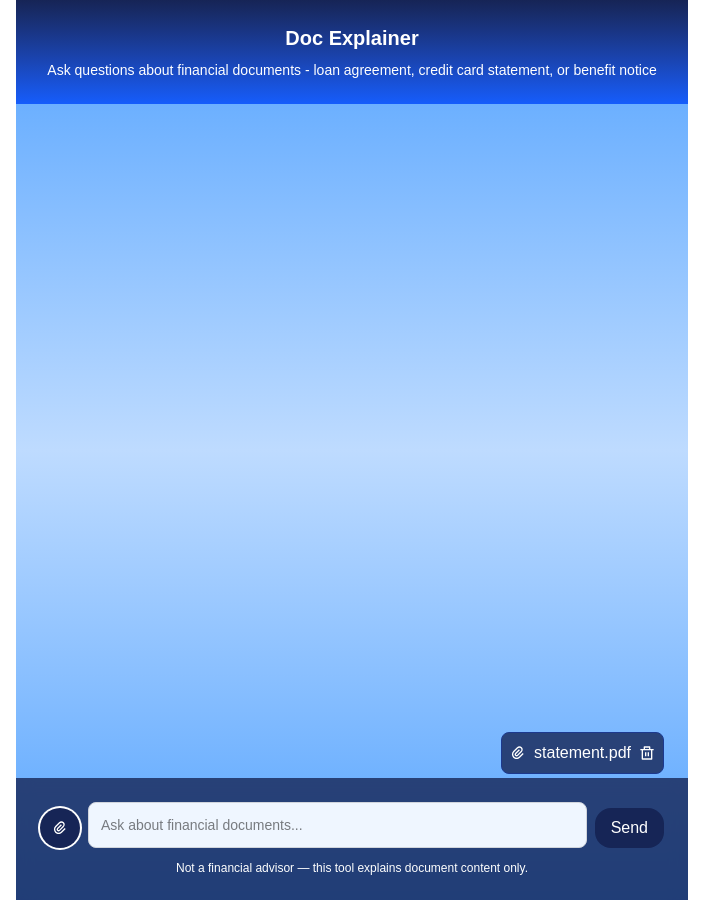
Test: Home › shows the attached file and lets the user remove it
Earlier steps of the test are not shown.
Expected: the text "statement.pdf" is shown, left=534, top=741, right=631, bottom=765
Click the button named "Remove uploaded document".
click(647, 753)  # box left=639, top=745, right=655, bottom=761
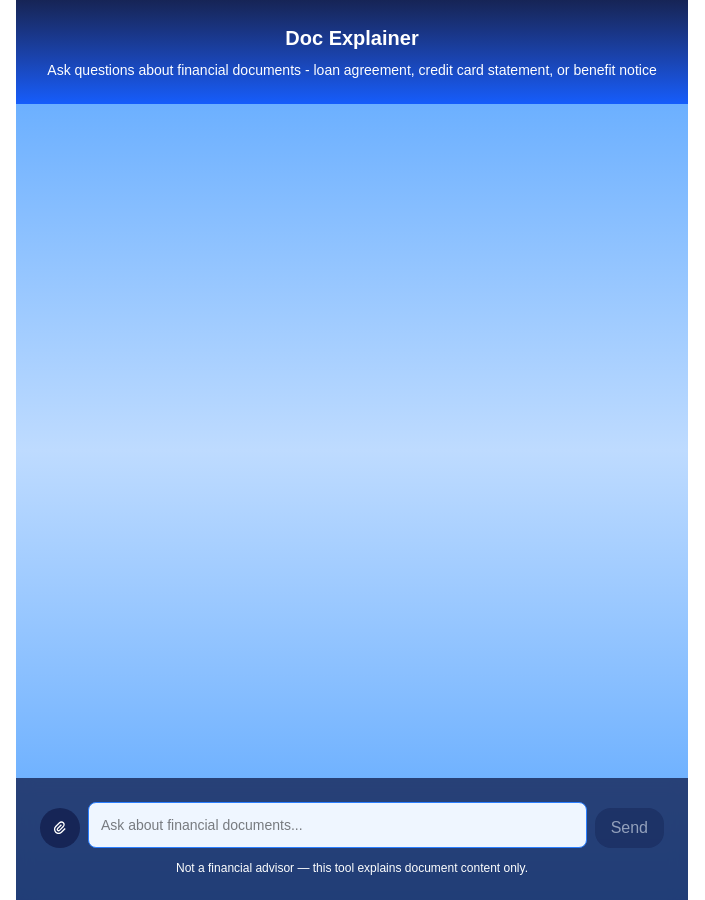
Expected: the text "statement.pdf" is gone
Expected: the button "Send" is disabled, left=595, top=808, right=664, bottom=848
